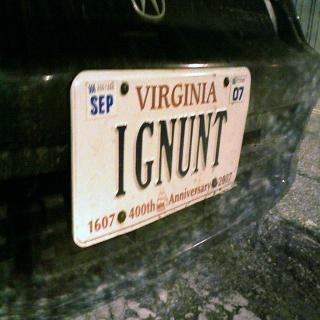license: (70, 69, 253, 250)
